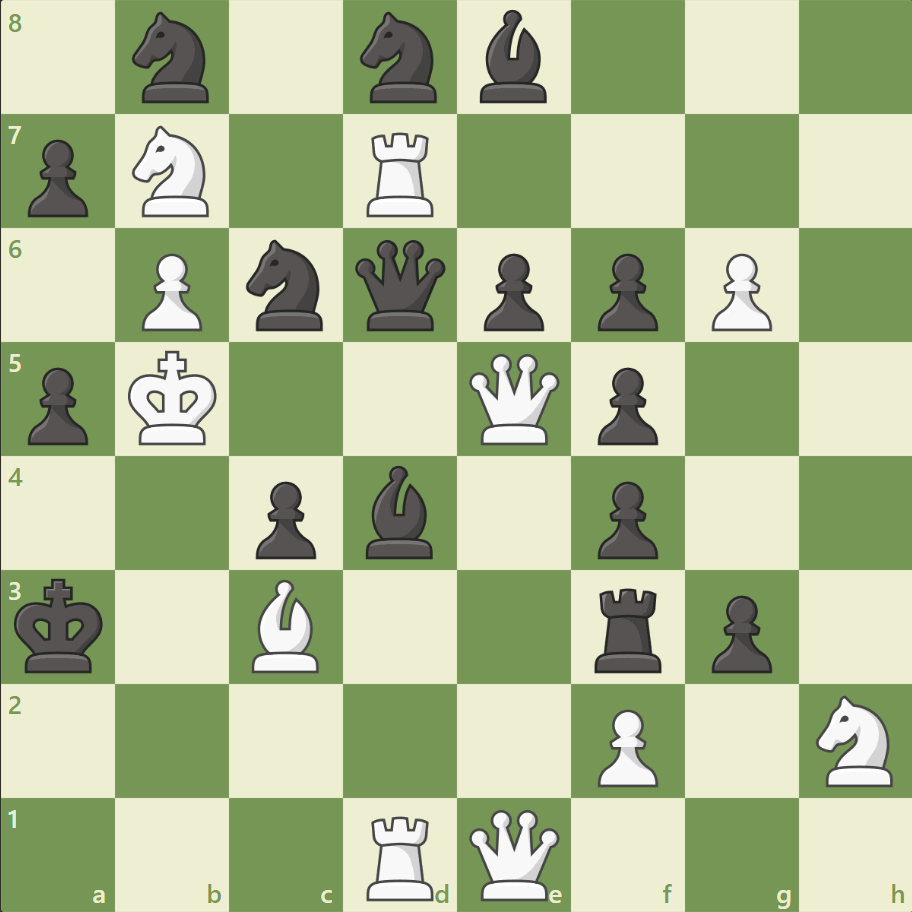B: (244, 574, 328, 676)
K: (124, 344, 224, 452)
N: (124, 121, 222, 223), (806, 688, 903, 791)
P: (133, 246, 208, 337), (701, 246, 776, 337), (588, 700, 662, 791)
Q: (464, 349, 563, 449), (464, 804, 563, 903)
R: (360, 806, 442, 904), (360, 125, 442, 222)
b: (471, 6, 555, 109), (358, 460, 442, 563)
k: (11, 571, 111, 679)
n: (124, 7, 222, 110), (351, 7, 449, 110), (238, 234, 335, 337)
p: (20, 132, 95, 223), (474, 246, 549, 337), (20, 359, 95, 450), (247, 473, 322, 564), (701, 586, 776, 677), (588, 246, 662, 337), (588, 359, 662, 450), (588, 473, 662, 564)
q: (351, 236, 450, 335)
r: (587, 579, 670, 676)
